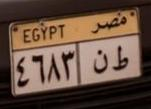3: (62, 49, 75, 81)
4: (17, 56, 28, 89)
6: (31, 53, 46, 84)
8: (47, 52, 61, 84)
Taa: (112, 44, 128, 73)
noon: (92, 48, 109, 74)
